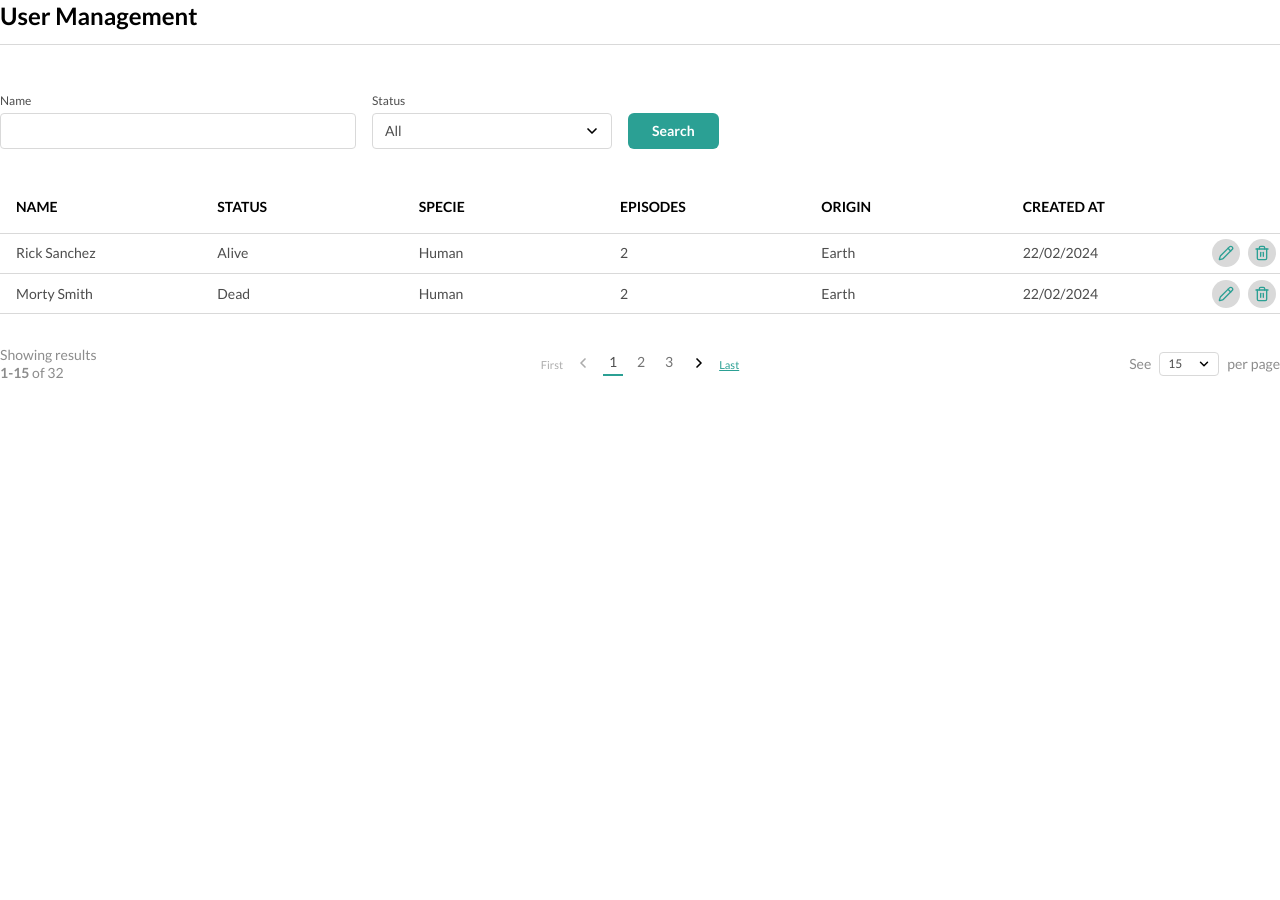
Test case: UsersPage › deve editar o nome de um usuário e confirmar com um toast
Double-click the column heading "Rick Sanchez" at (56, 253), box [0,234,201,274]
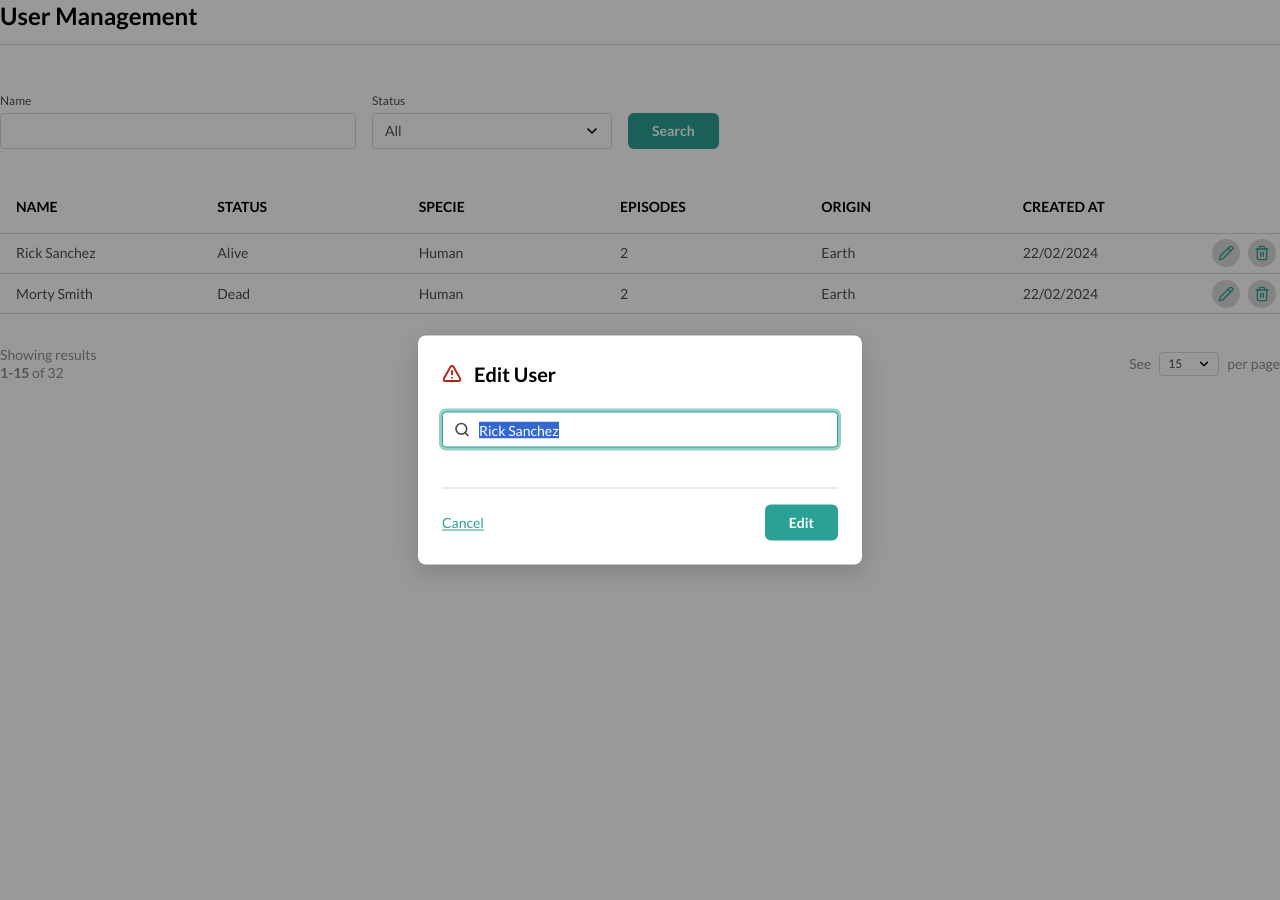
Type "Rick Sanchez Edited" into the field named "Name" at (640, 430), box [442,412,838,448]
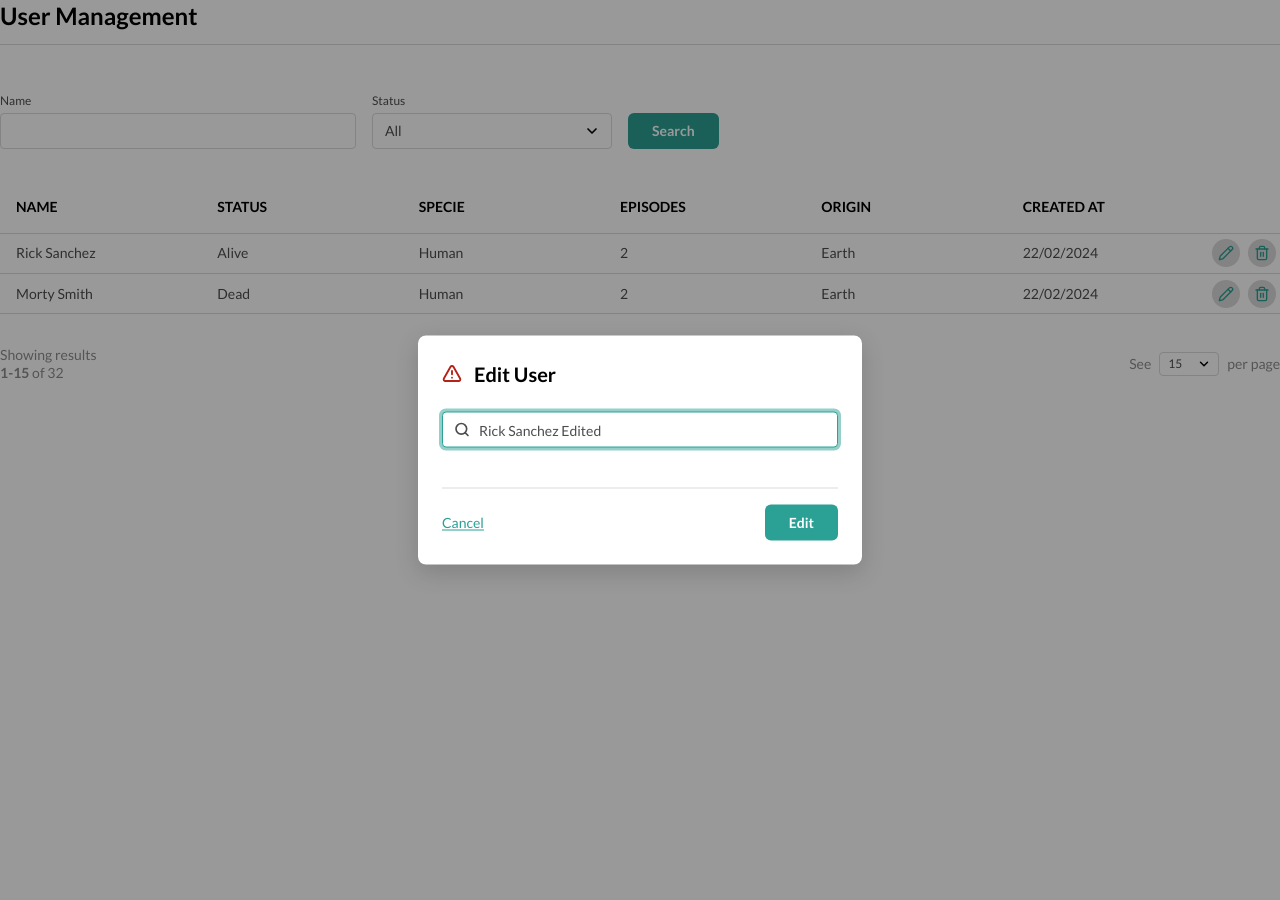
Click the button "Edit" at (801, 522), box [765,504,838,540]
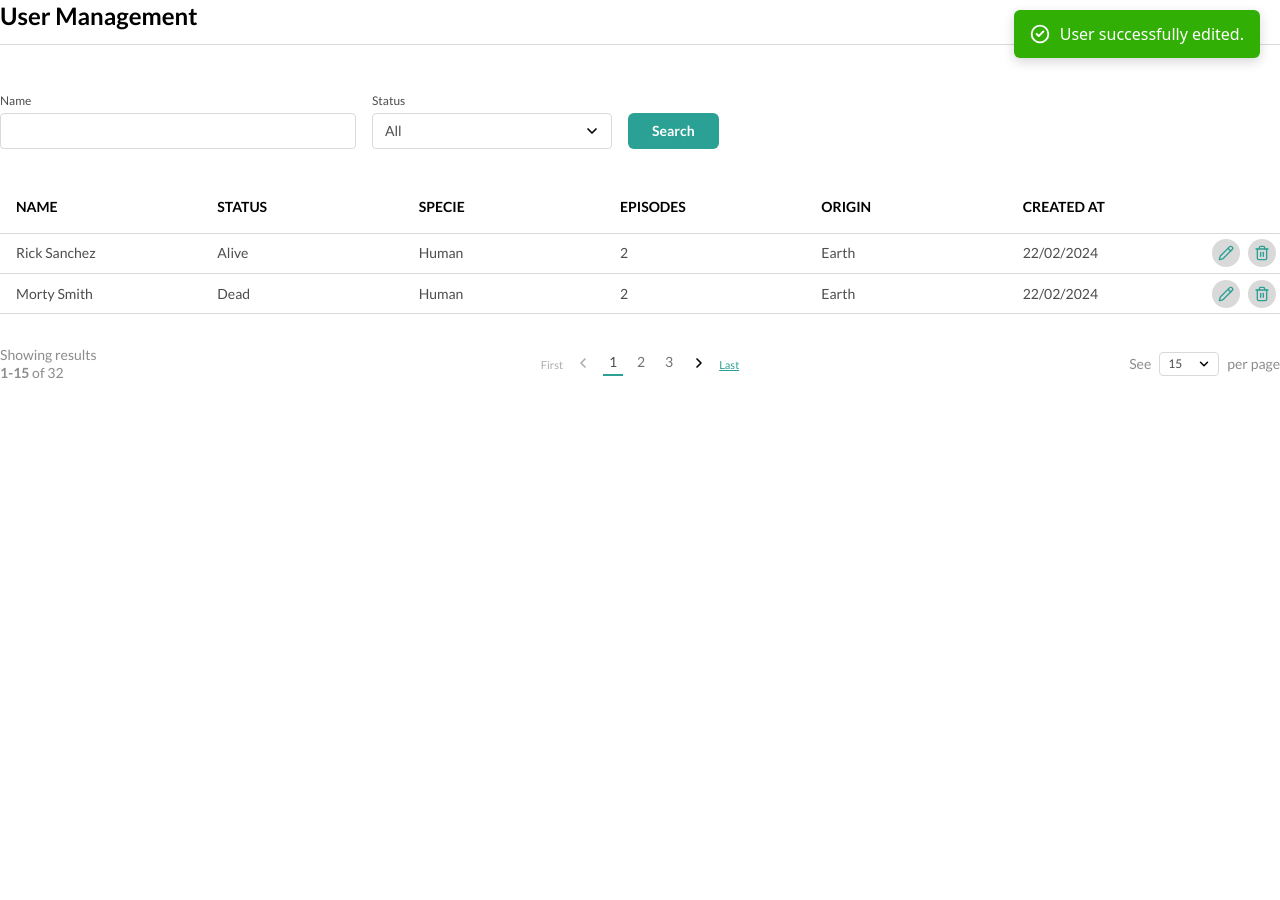
Expected: the text "User successfully edited." is shown, [1060,22,1244,46]
